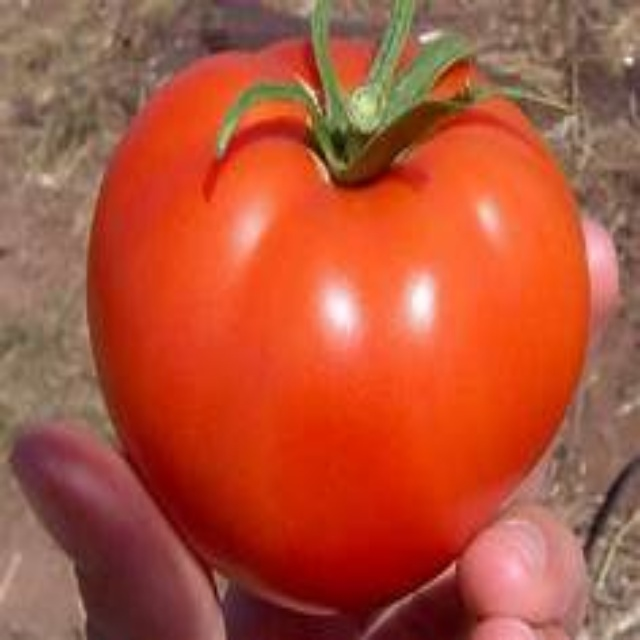tomato: (104, 35, 586, 592)
